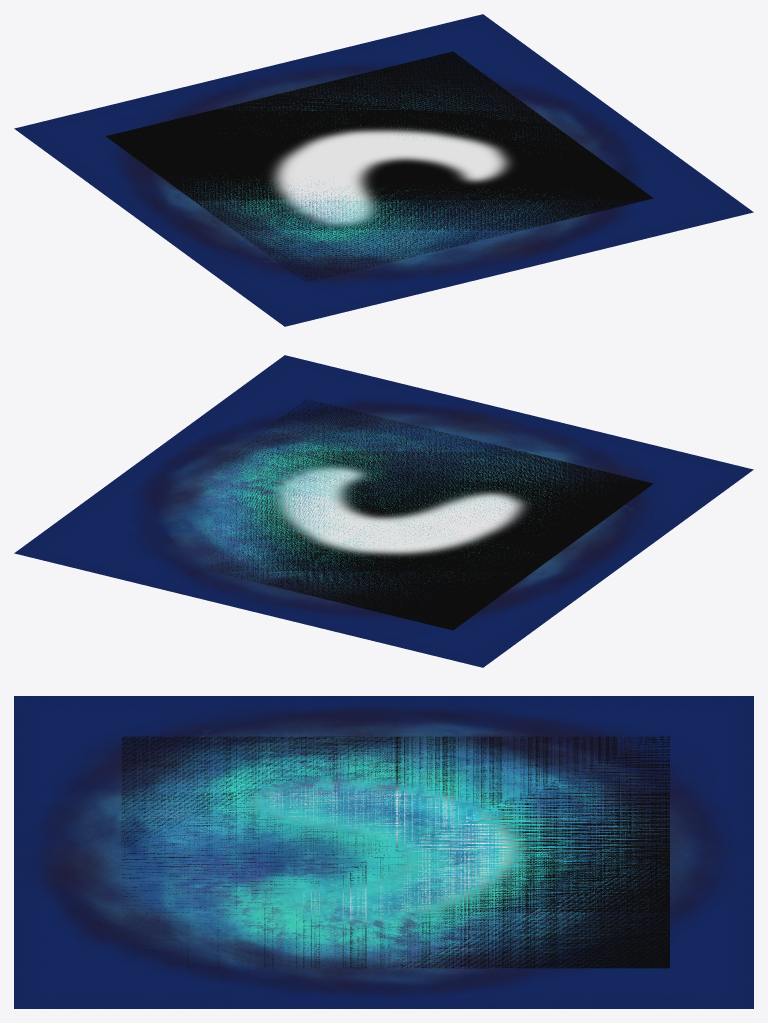
Rendered from pir_m_are_isl_rumRunner_ocean.fbx.
3 renders of one model, top to bottom at view 1: azimuth 30°, elevation 25°; view 2: azimuth 150°, elevation 25°; view 3: azimuth 270°, elevation 25°, orthographic. The views are drawn at different scales.
Visible parts, largest first — view 1: water_color, water_alpha; view 2: water_color, water_alpha; view 3: water_color, water_alpha.
Boxes of the visible parts, left/top/right/bottom form: water_color: left=14, top=14, right=753, bottom=326; water_alpha: left=106, top=51, right=653, bottom=281; water_color: left=14, top=355, right=753, bottom=667; water_alpha: left=199, top=399, right=653, bottom=630; water_color: left=14, top=696, right=753, bottom=1008; water_alpha: left=121, top=736, right=669, bottom=968.
Size of what is drawn, in the model's own units: 277056 by 0.0451 by 277056.
2 materials, 2 textured.
